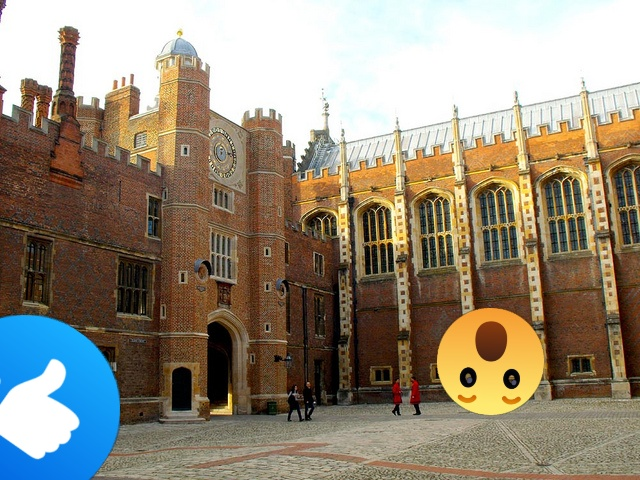like: (0, 315, 120, 480)
wow: (437, 308, 544, 415)
